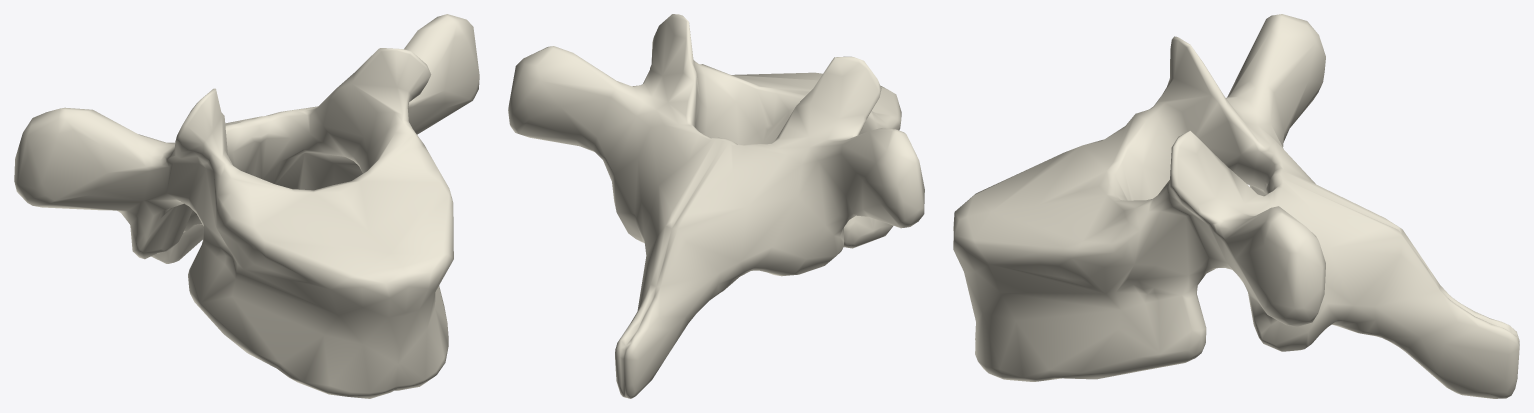
The picture shows the model from 3 angles, left to right: view 1: azimuth 30°, elevation 25°; view 2: azimuth 150°, elevation 25°; view 3: azimuth 270°, elevation 25°; orthographic projection. The views are drawn at different scales.
Visible parts, largest first — view 1: ZA_84f5b2614efc41f9; view 2: ZA_84f5b2614efc41f9; view 3: ZA_84f5b2614efc41f9.
Boxes of the visible parts, box(x1,y1,x2,y2) form: ZA_84f5b2614efc41f9: box(14, 14, 479, 398); ZA_84f5b2614efc41f9: box(508, 14, 924, 398); ZA_84f5b2614efc41f9: box(953, 14, 1519, 398).
Size of the model in its own units: 0.0709 by 0.0431 by 0.0713.
